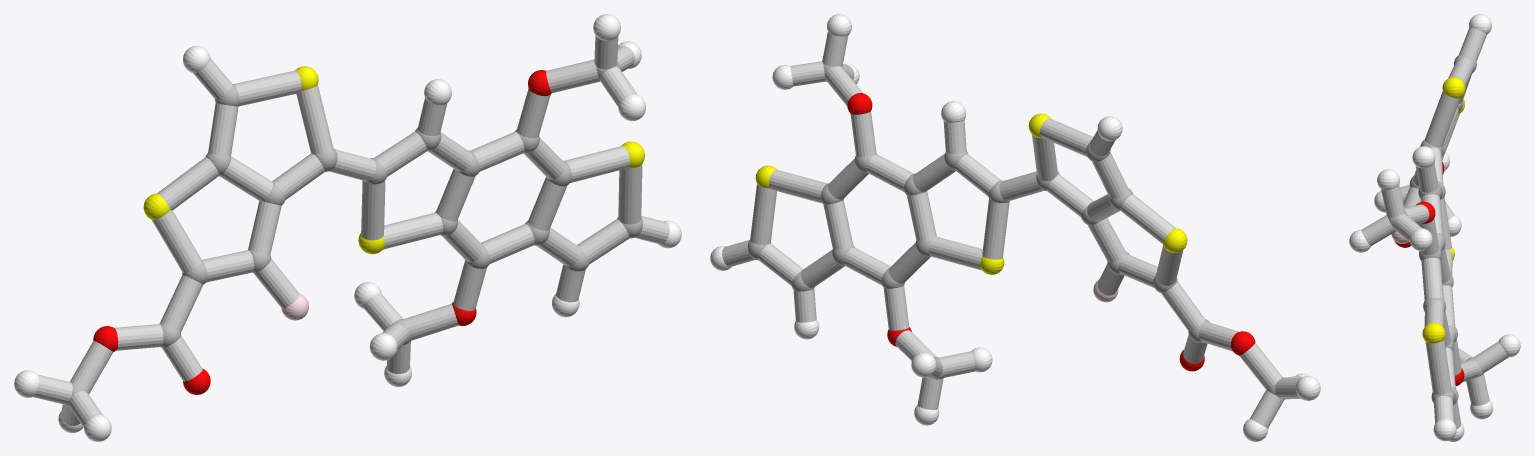
Rendered from color.glb.
3 views of the same model, side by side, from view 1: azimuth 30°, elevation 25°; view 2: azimuth 150°, elevation 25°; view 3: azimuth 270°, elevation 25° (orthographic). The views are drawn at different scales.
Parts seen in each view (by area): view 1: grp15205, grp8689, grp1, grp13395, grp7241; view 2: grp15205, grp8689, grp1, grp7241, grp13395; view 3: grp15205, grp8689, grp1, grp7241, grp13395.
Boxes of the visible parts, box(x1,y1,x2,y2) form: grp15205: box(33, 35, 669, 427); grp8689: box(14, 14, 681, 441); grp1: box(66, 61, 642, 407); grp13395: box(93, 70, 551, 394); grp7241: box(143, 66, 644, 254); grp15205: box(722, 32, 1302, 428); grp8689: box(710, 14, 1320, 441); grp1: box(747, 64, 1284, 399); grp7241: box(755, 113, 1187, 274); grp13395: box(847, 93, 1255, 371); grp15205: box(1361, 27, 1508, 429); grp8689: box(1349, 14, 1520, 441); grp1: box(1388, 55, 1483, 404); grp7241: box(1422, 77, 1465, 343); grp13395: box(1394, 162, 1464, 386).
Bounding box in the file's own units: 16.6 × 9.23 × 4.45.
